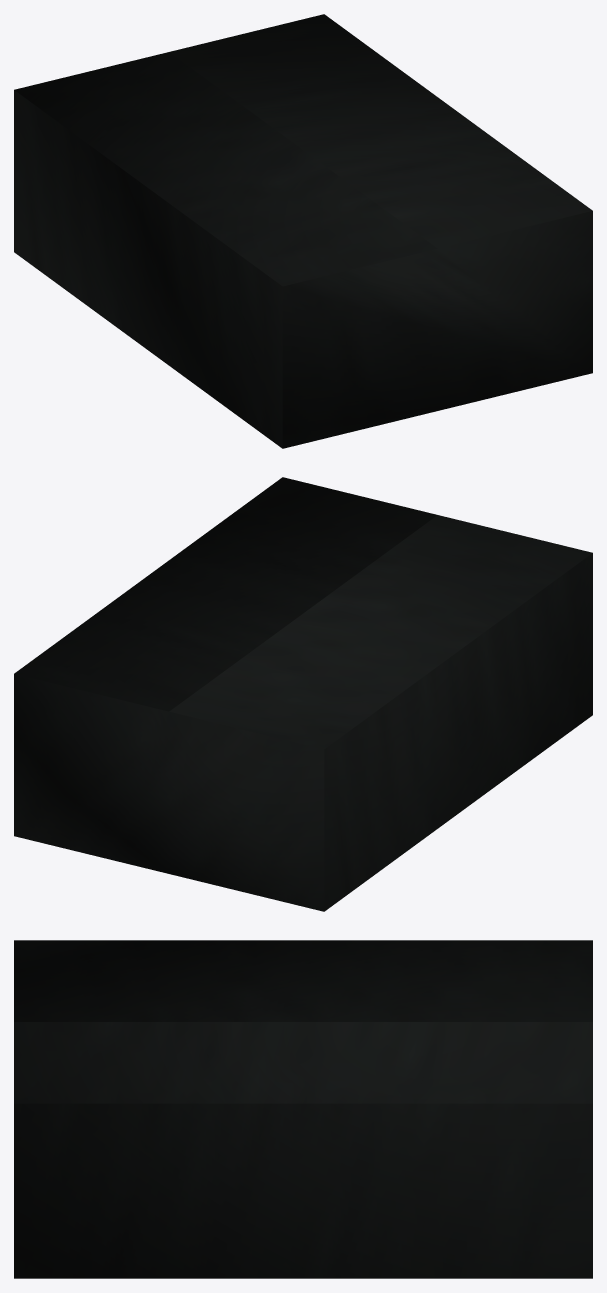
3 renders of one model, top to bottom at view 1: azimuth 30°, elevation 25°; view 2: azimuth 150°, elevation 25°; view 3: azimuth 270°, elevation 25°, orthographic. The views are drawn at different scales.
Size of the model in its own units: 0.34 by 0.17 by 0.51.
1 material, 1 textured.
